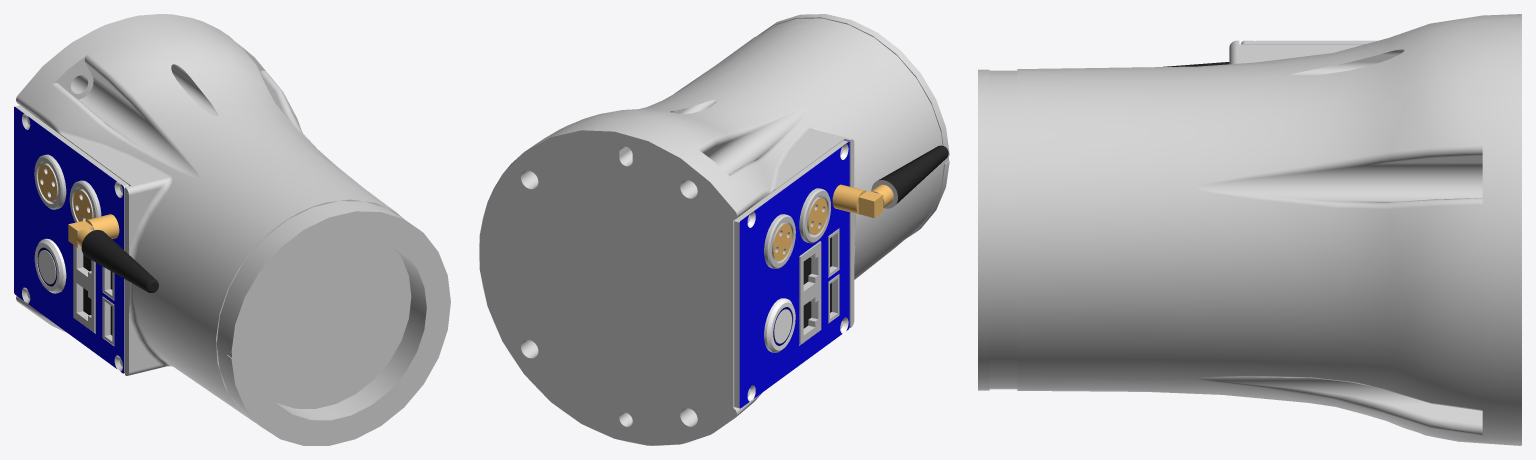
Rendered from converted_rm75_link_0.glb.
The picture shows the model from 3 angles, left to right: view 1: azimuth 30°, elevation 25°; view 2: azimuth 150°, elevation 25°; view 3: azimuth 270°, elevation 25°; orthographic projection. The views are drawn at different scales.
Visible parts, largest first — view 1: ____1.STEP, ____1.STEP_44adc5, ____1.STEP_eb9afd, ____1.STEP_7e91c6, ____1.STEP_91ce50, ____1.STEP_2ddd81; view 2: ____1.STEP, ____1.STEP_44adc5, ____1.STEP_eb9afd, ____1.STEP_7e91c6, ____1.STEP_91ce50, ____1.STEP_2ddd81; view 3: ____1.STEP.
Boxes of the visible parts, left/top/right/bottom form: ____1.STEP: left=15, top=14, right=450, bottom=445; ____1.STEP_44adc5: left=14, top=106, right=124, bottom=373; ____1.STEP_eb9afd: left=81, top=230, right=158, bottom=335; ____1.STEP_7e91c6: left=22, top=113, right=122, bottom=371; ____1.STEP_91ce50: left=68, top=214, right=119, bottom=247; ____1.STEP_2ddd81: left=38, top=164, right=92, bottom=221; ____1.STEP: left=479, top=14, right=949, bottom=445; ____1.STEP_44adc5: left=739, top=142, right=849, bottom=408; ____1.STEP_eb9afd: left=803, top=145, right=948, bottom=328; ____1.STEP_7e91c6: left=747, top=144, right=848, bottom=401; ____1.STEP_91ce50: left=832, top=184, right=893, bottom=217; ____1.STEP_2ddd81: left=773, top=198, right=827, bottom=260; ____1.STEP: left=978, top=14, right=1521, bottom=445.
Size of the model in its own units: 0.1143 by 0.11 by 0.1385.
